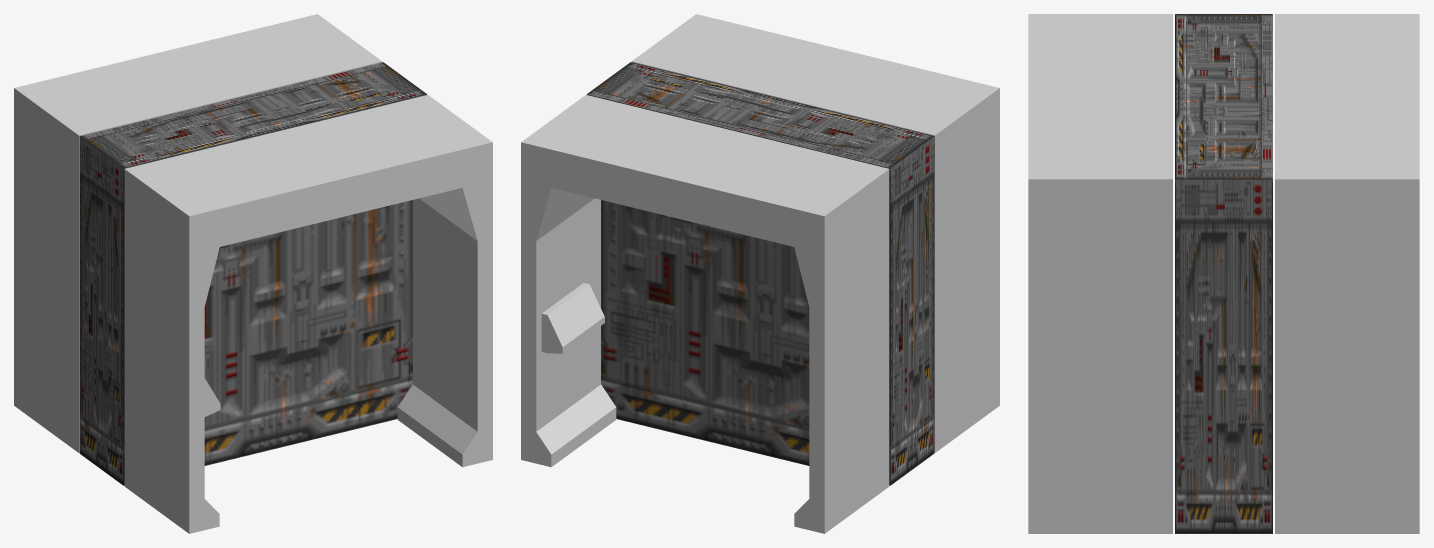
File: door1.fbx
3 renders of one model, left to right at view 1: azimuth 30°, elevation 25°; view 2: azimuth 150°, elevation 25°; view 3: azimuth 270°, elevation 25°, orthographic. The views are drawn at different scales.
Parts seen in each view (by area): view 1: Cube.001, Cube; view 2: Cube.001, Cube, Cube.003; view 3: Cube.001, Cube.
Part boxes in pixels (bbox=[...]): Cube.001: bbox=[14, 14, 492, 533]; Cube: bbox=[79, 62, 427, 485]; Cube.001: bbox=[521, 14, 999, 533]; Cube: bbox=[586, 62, 934, 485]; Cube.003: bbox=[541, 283, 604, 353]; Cube.001: bbox=[1028, 14, 1419, 533]; Cube: bbox=[1175, 14, 1272, 533].
Bounding box in the file's own units: 100 × 100 × 100.
